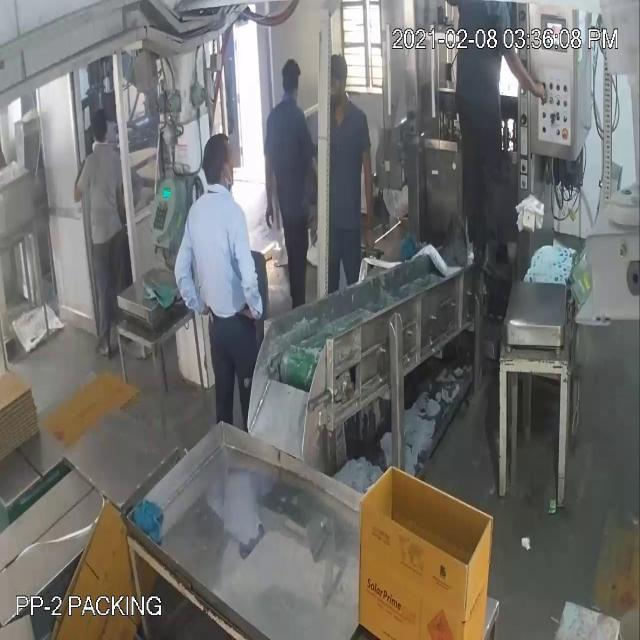No_Gloves: (22, 76, 526, 276)
